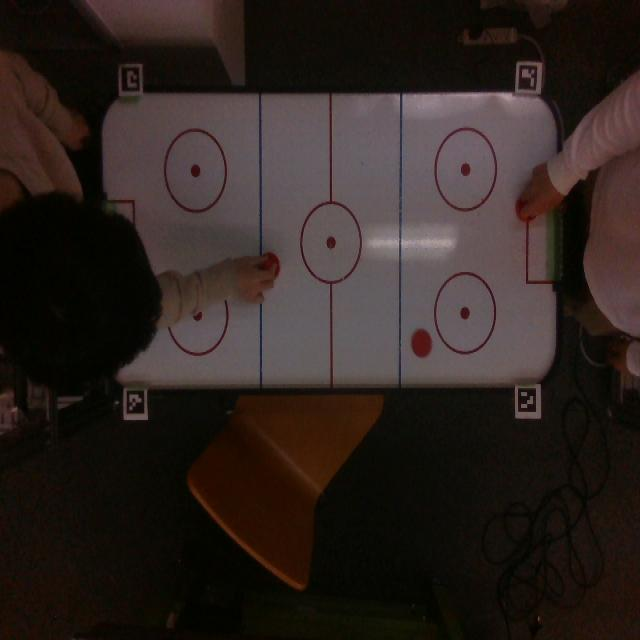puck: (411, 328, 432, 356)
